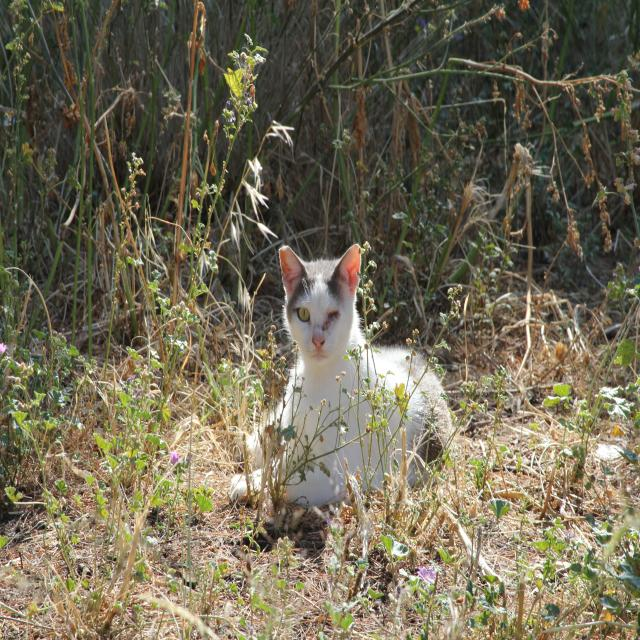cat: (269, 246, 451, 506)
